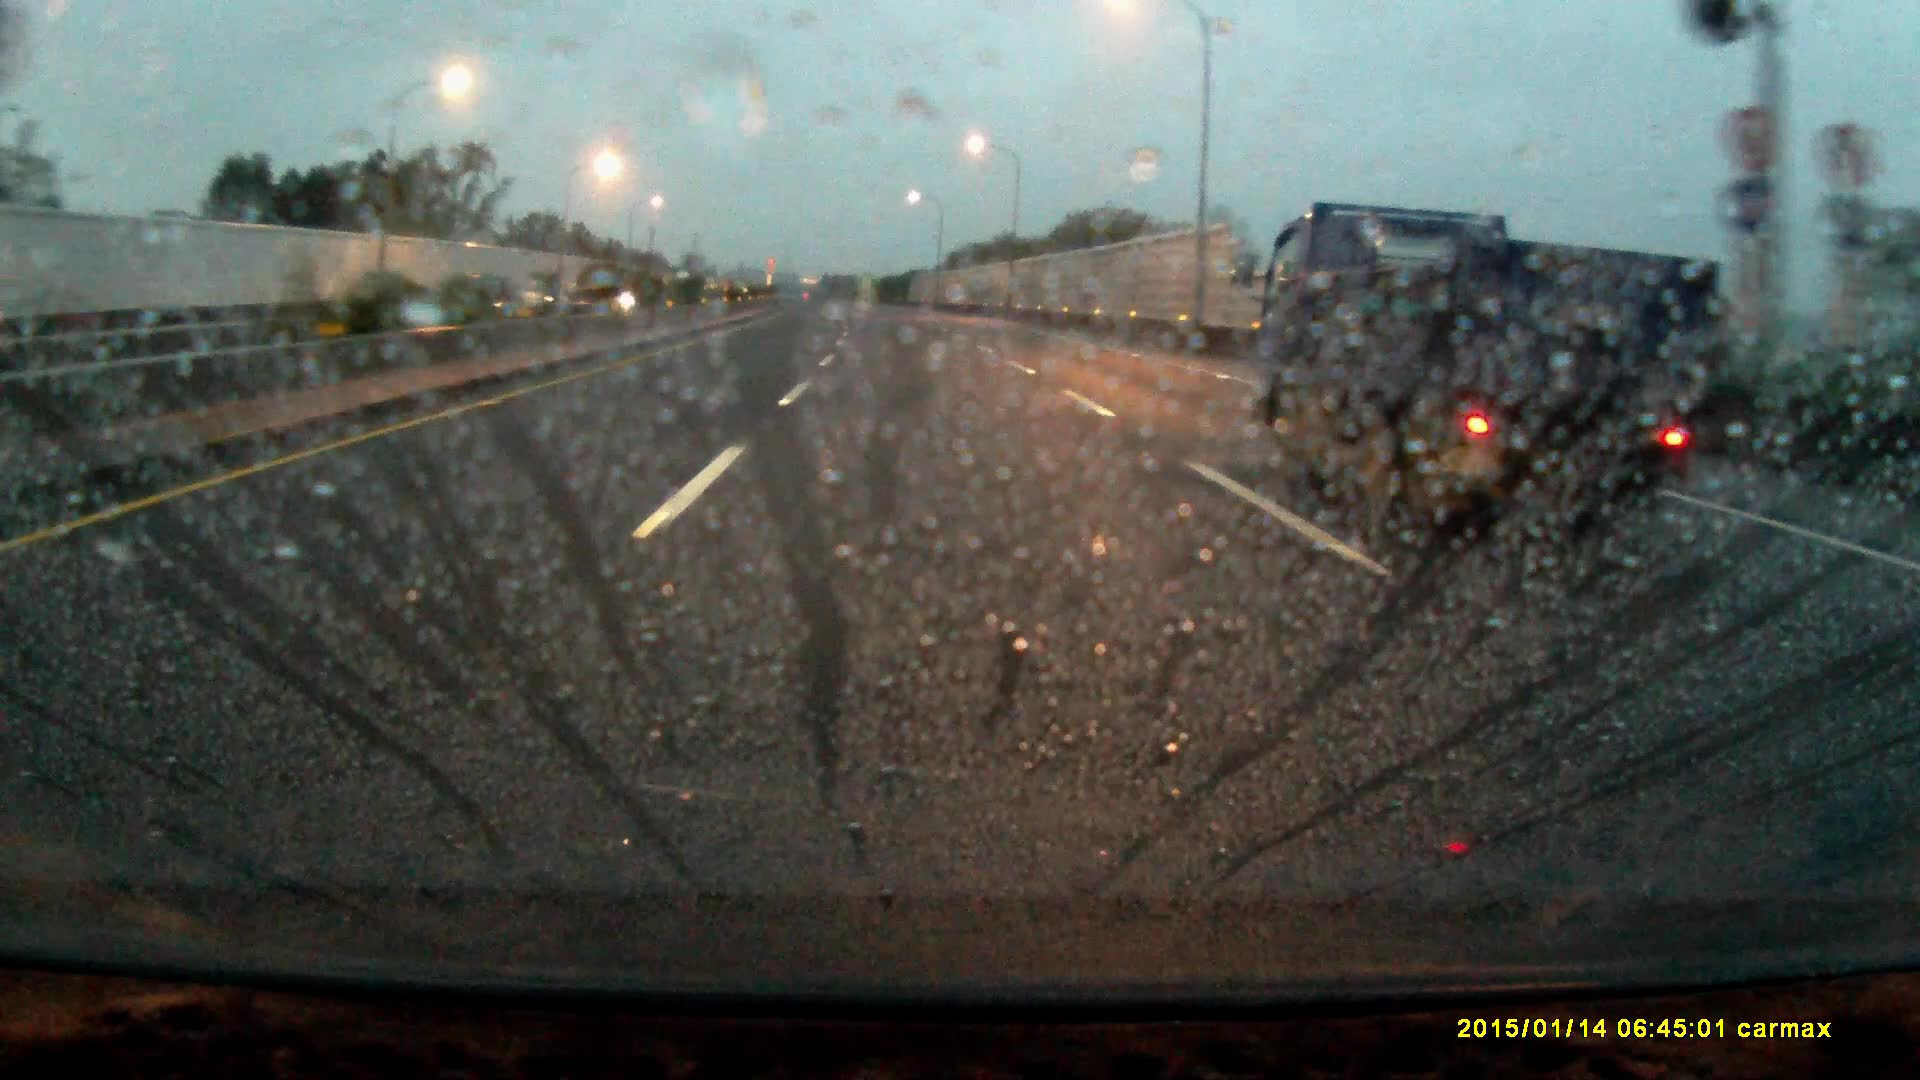vehicle: (1236, 200, 1741, 546)
